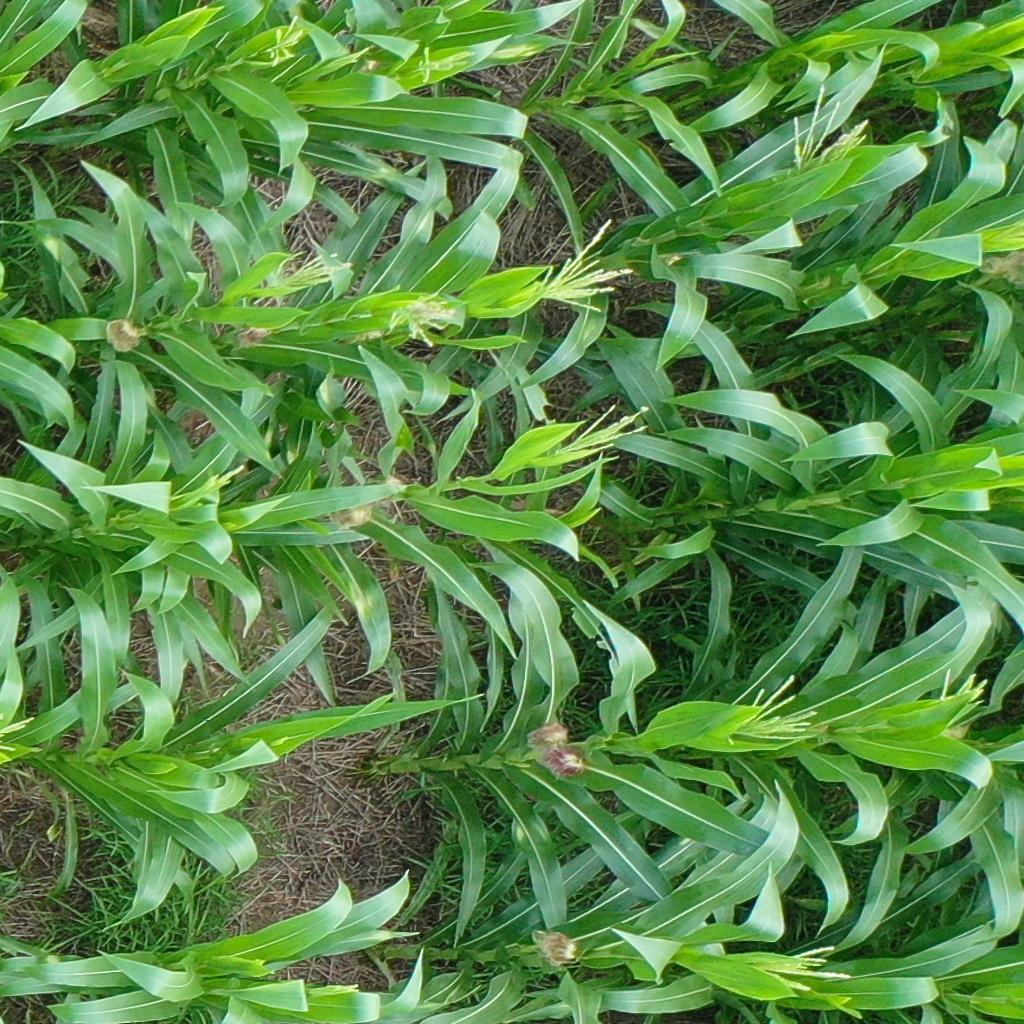Tassel: (541, 217, 634, 313), (786, 81, 868, 171), (726, 672, 821, 746), (552, 398, 649, 457), (757, 943, 857, 1000), (251, 247, 340, 302), (384, 290, 459, 349), (176, 459, 246, 509), (936, 661, 989, 719), (416, 46, 473, 82), (1, 709, 37, 764), (265, 15, 301, 64), (297, 977, 365, 995)
